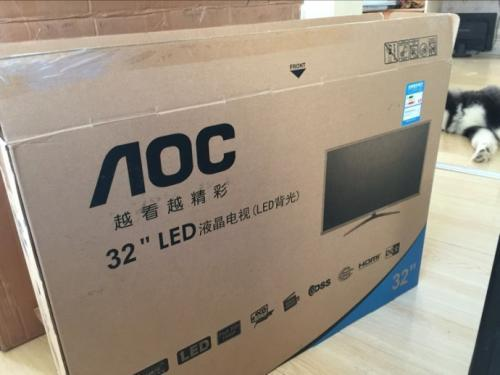cardboard: (0, 2, 457, 374)
